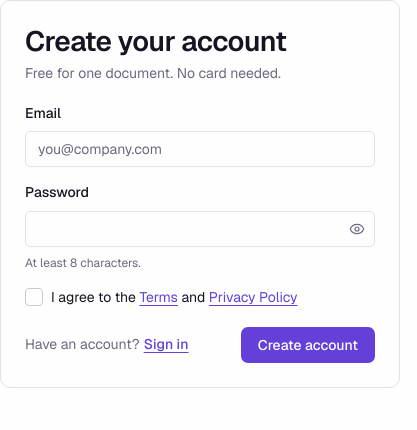
Test case: SignUpForm › shows why the account couldn't be created
Type "maya@studio.co" into the field labelled "Email" at {"x": 200, "y": 149}, box [25,131,375,167]
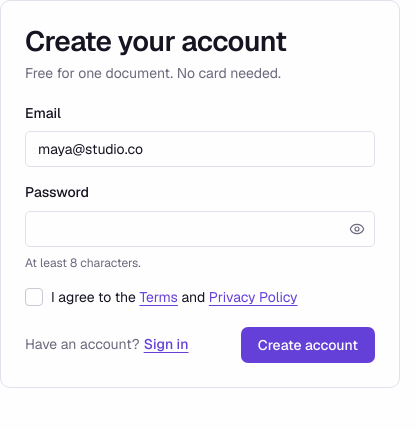
Type "long enough" into the password field labelled "Password" at {"x": 200, "y": 229}, box [25,211,375,247]
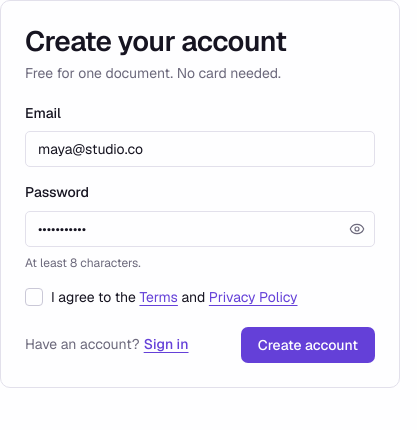
Click the checkbox at {"x": 34, "y": 297}, box [25,288,43,306]
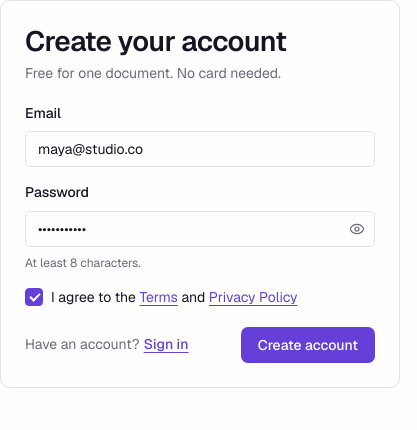
Click the button "Create account" at {"x": 308, "y": 345}, box [241,327,375,363]
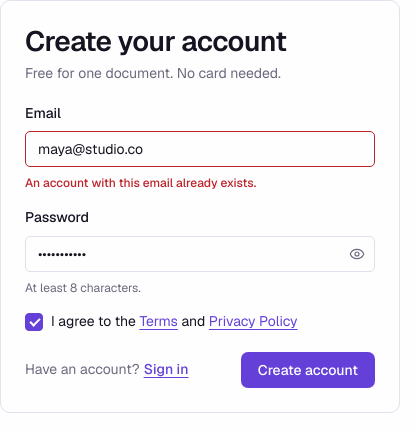
Expected: the text "An account with this email already exists." is shown, [25,175,256,191]
